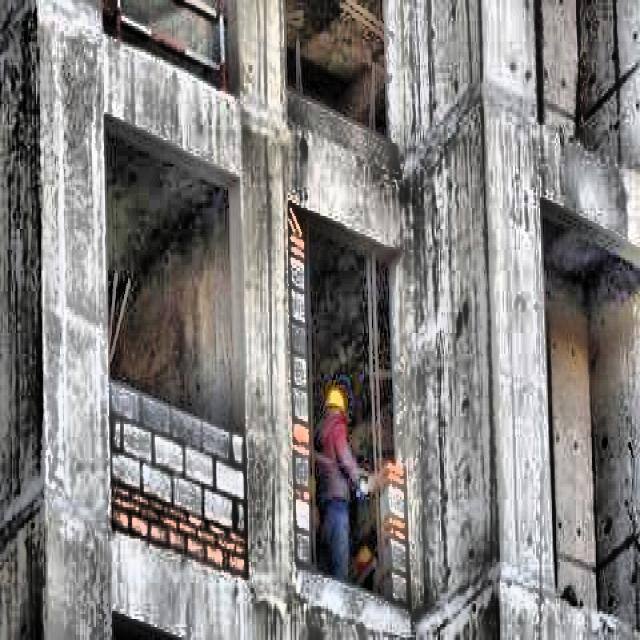helmet: (321, 380, 352, 437)
